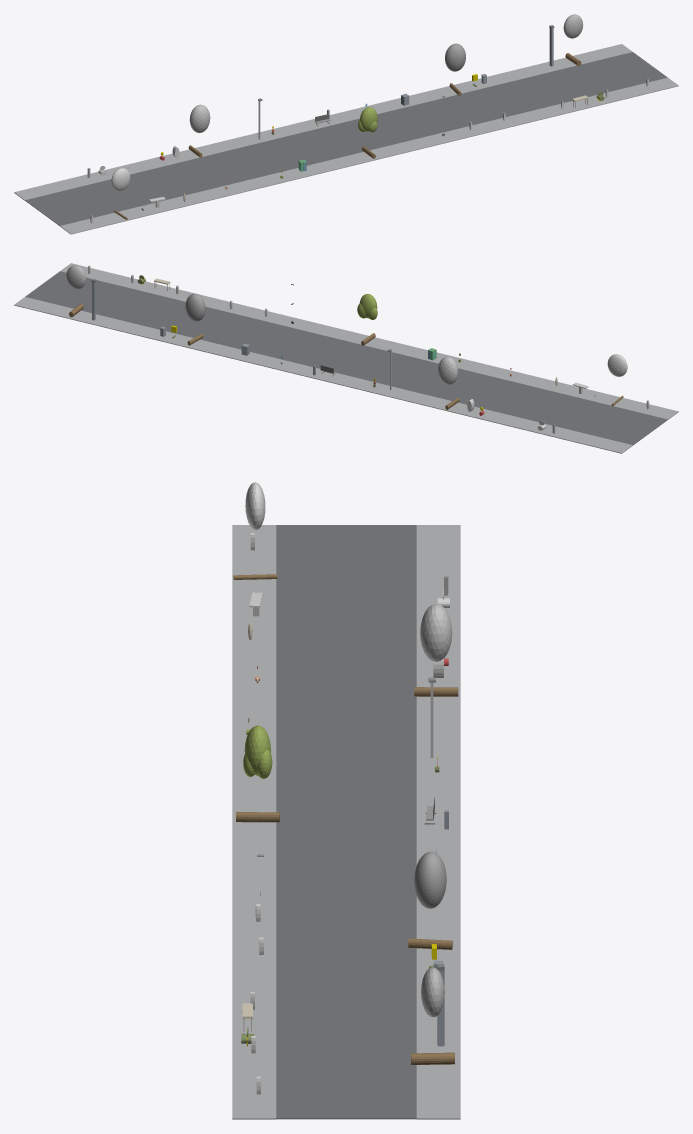
3 views of the same model, one above another, from view 1: azimuth 30°, elevation 25°; view 2: azimuth 150°, elevation 25°; view 3: azimuth 270°, elevation 25° (orthographic). The views are drawn at different scales.
Visible parts, largest first — view 1: road_slab, sidewalk_left, sidewalk_right, inst_0015, inst_0013, inst_0014, inst_0016, inst_0012; view 2: road_slab, sidewalk_right, sidewalk_left, inst_0013, inst_0015, inst_0014, inst_0016, inst_0012; view 3: road_slab, sidewalk_left, sidewalk_right, inst_0013, inst_0015, inst_0014, inst_0016, inst_0012.
Boxes of the visible parts, <box> form: road_slab: <box>25,52,667,225</box>; sidewalk_left: <box>60,77,678,234</box>; sidewalk_right: <box>14,44,632,200</box>; inst_0015: <box>445,43,465,95</box>; inst_0013: <box>188,104,210,157</box>; inst_0014: <box>358,107,377,158</box>; inst_0016: <box>563,14,583,66</box>; inst_0012: <box>111,168,130,219</box>; road_slab: <box>25,271,667,445</box>; sidewalk_right: <box>14,297,632,453</box>; sidewalk_left: <box>60,263,678,419</box>; inst_0013: <box>438,356,459,409</box>; inst_0015: <box>185,293,205,345</box>; inst_0014: <box>357,294,377,345</box>; inst_0016: <box>66,265,86,317</box>; inst_0012: <box>607,354,627,406</box>; road_slab: <box>276,525,416,1119</box>; sidewalk_left: <box>232,525,276,1119</box>; sidewalk_right: <box>416,525,460,1119</box>; inst_0013: <box>414,604,458,696</box>; inst_0015: <box>408,851,452,949</box>; inst_0014: <box>236,725,279,822</box>; inst_0016: <box>411,967,454,1064</box>; inst_0012: <box>233,482,277,579</box>.
Bounding box in the file's own units: 80 × 6.08 × 13.
